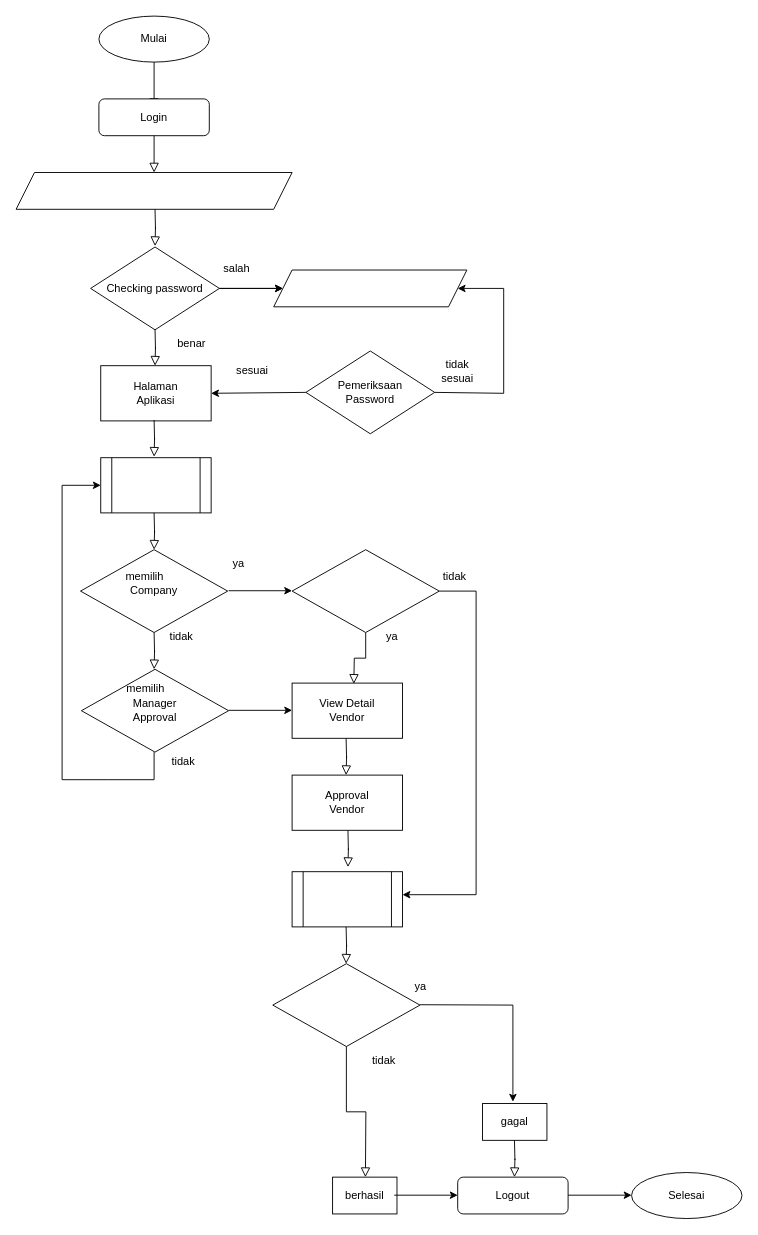
This 758x1235 diagram has some shape labels left out. The centre of each missing label's shape, as x and y in pixels:
"Main Menu" goes at point 155,485.
"Masukan password" goes at point 370,288.
"Masukan Username & password" goes at point 153,190.
"Me-Register Perusahaan" goes at point 365,590.
"Submitting Status perusahaan pending?" goes at point 346,1004.
"View Status Vendor" goes at point 346,899.
